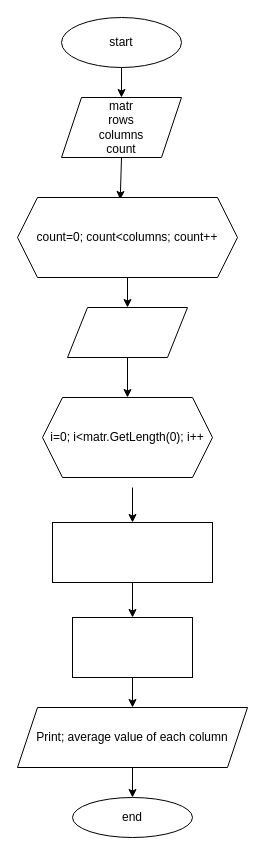
Image size: 265x855. Some labels were removed from this diagram. Each missing label, with the centre of its shape:
"average = sum/rows" goes at point (132, 647).
"sum = sum+ matr[i, count]" goes at point (132, 552).
"sum=0" goes at point (127, 332).
